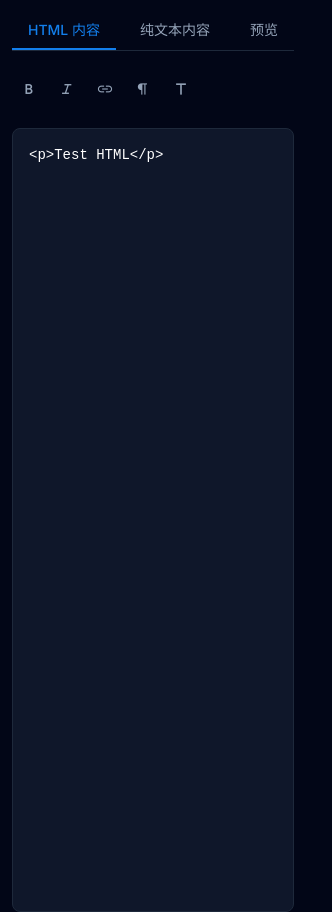
Test case: EmailTemplateEditor Component › should switch between tabs
The image size is (332, 912).
Click the button "纯文本内容": (175, 31) [124, 12, 226, 50]
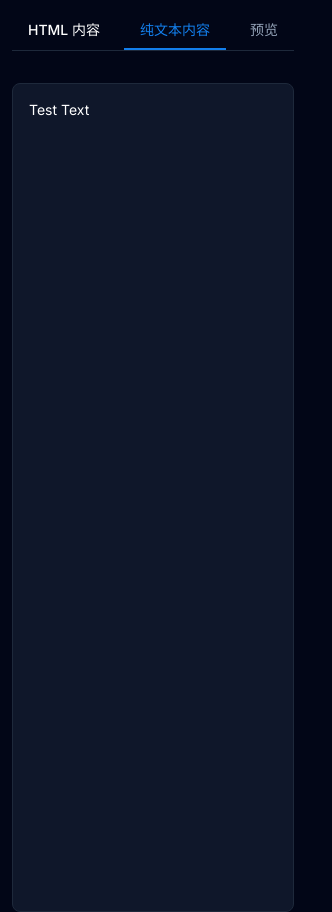
Expected: the text box with placeholder "输入纯文本内容..." is shown
